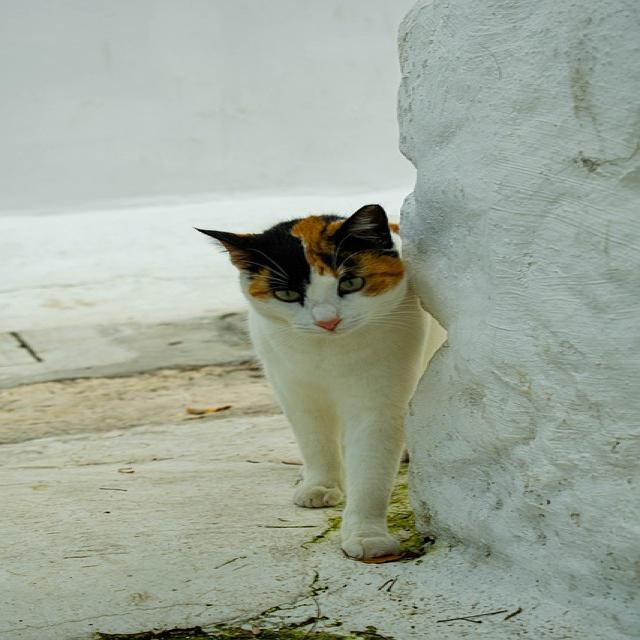cat: (197, 205, 446, 559)
